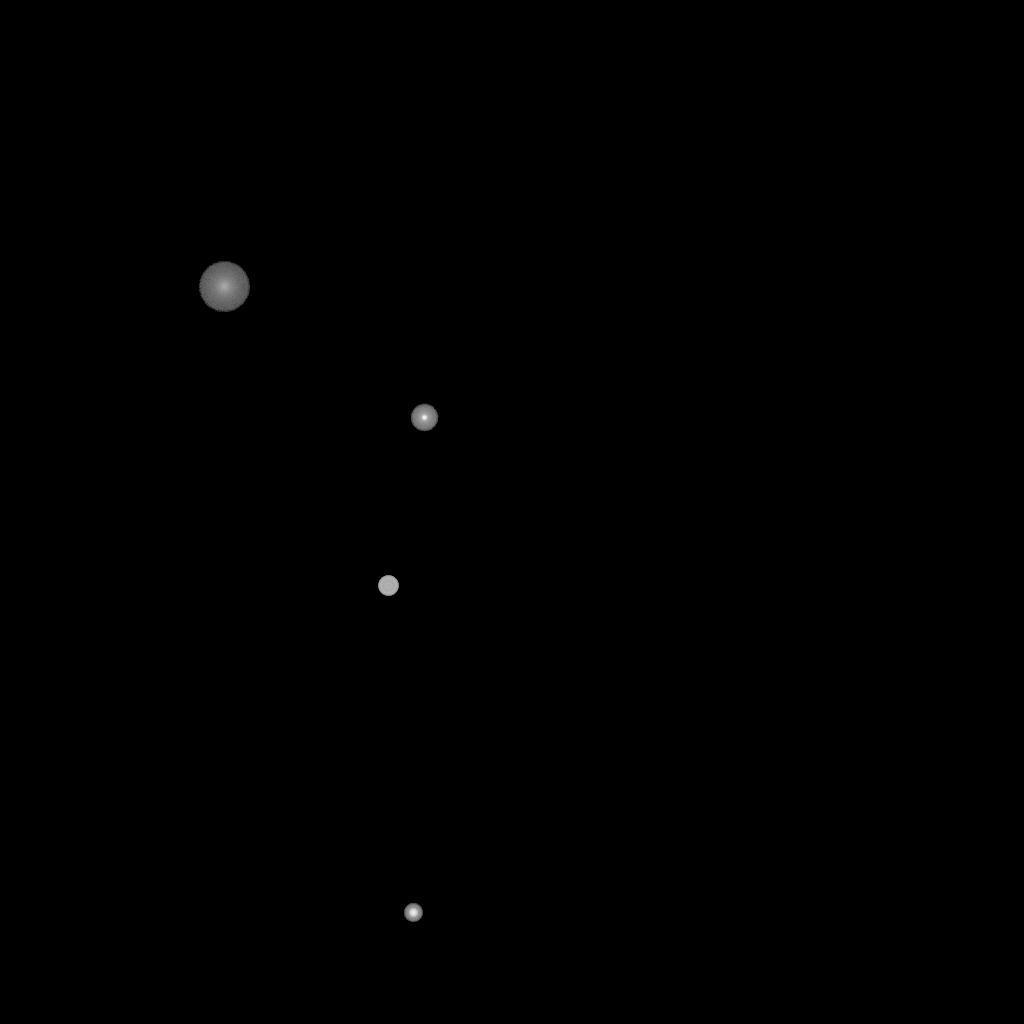depth:-10: (410, 404, 438, 432)
depth:-20: (404, 904, 422, 922)
depth:-40: (378, 576, 398, 596)
depth:20: (198, 262, 250, 312)
